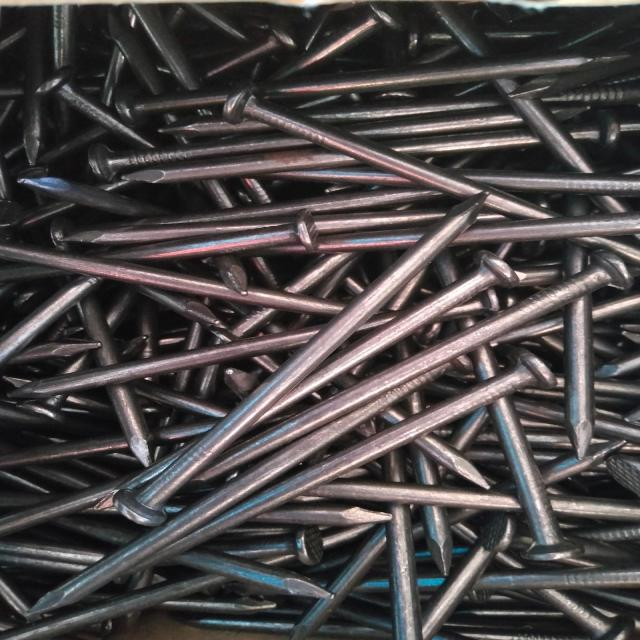3x8 nail: (78, 168, 527, 536), (19, 346, 582, 630)
